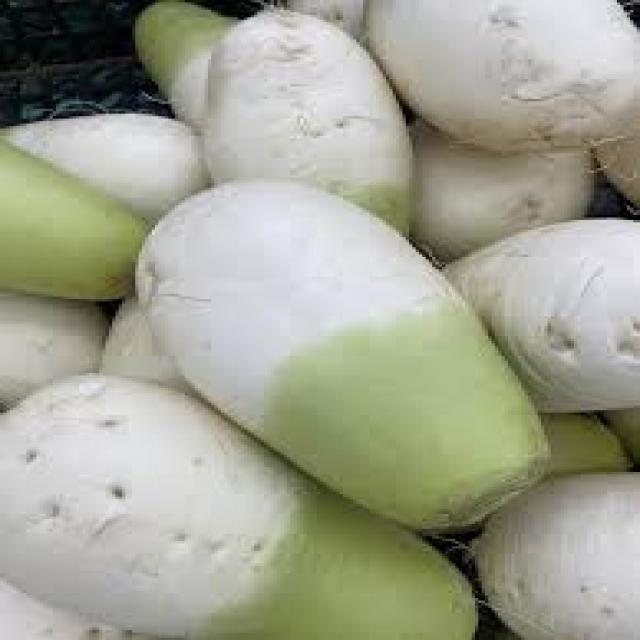raddish: (139, 183, 551, 531)
